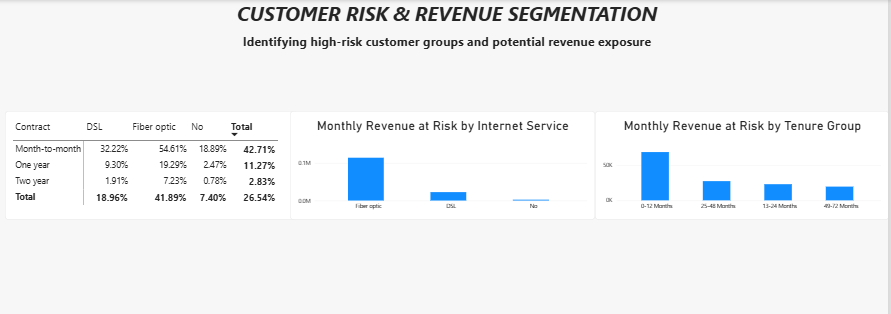

Layout of this report page (visuals, bound fields, positions):
{"tool":"powerbi","page":{"name":"Customer Risk & Segmentation","canvas":[1920,1080],"ordinal":1},"visuals":[{"type":"textbox","box":[10.8,0,1909.4,71.3],"z":0},{"type":"textbox","box":[10.8,71.3,1909.4,58.3],"z":1},{"type":"pivotTable","fields":{"Rows":["Churn_Analysis.Contract"],"Columns":["Churn_Analysis.InternetService"],"Values":["Churn_Analysis.Churn_Rate"]},"box":[10.8,239.8,635,235.4],"z":2},{"type":"clusteredColumnChart","title":"Monthly Revenue at Risk by Internet Service","fields":{"Y":["Churn_Analysis.Revenue_at_Risk"],"Category":["Churn_Analysis.InternetService"]},"box":[626.4,239.8,658.8,235.4],"z":3},{"type":"clusteredColumnChart","title":"Monthly Revenue at Risk by Tenure Group","fields":{"Y":["Churn_Analysis.Revenue_at_Risk"],"Category":["Churn_Analysis.Tenure_Group"]},"box":[1285.2,239.8,635,235],"z":4}]}

Visuals, with their boxes on the page's 1920x1080 design canvas (x1, y1, x2, y2). These are canvas units, not pixel positions in the 891x314 screenshot, which may show the page scaled, cropped or inside an application window:
textbox: 11, 0, 1920, 71
textbox: 11, 71, 1920, 130
pivotTable - Churn_Analysis.Contract x Churn_Analysis.InternetService: 11, 240, 646, 475
"Monthly Revenue at Risk by Internet Service" clusteredColumnChart: 626, 240, 1285, 475
"Monthly Revenue at Risk by Tenure Group" clusteredColumnChart: 1285, 240, 1920, 475
